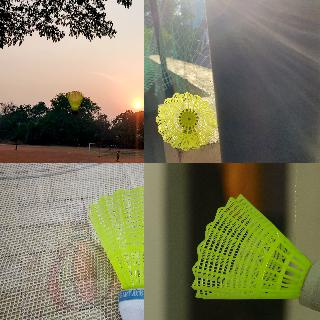shuttlecock: (192, 194, 319, 313), (88, 186, 143, 319), (156, 92, 216, 150), (65, 91, 83, 115)
